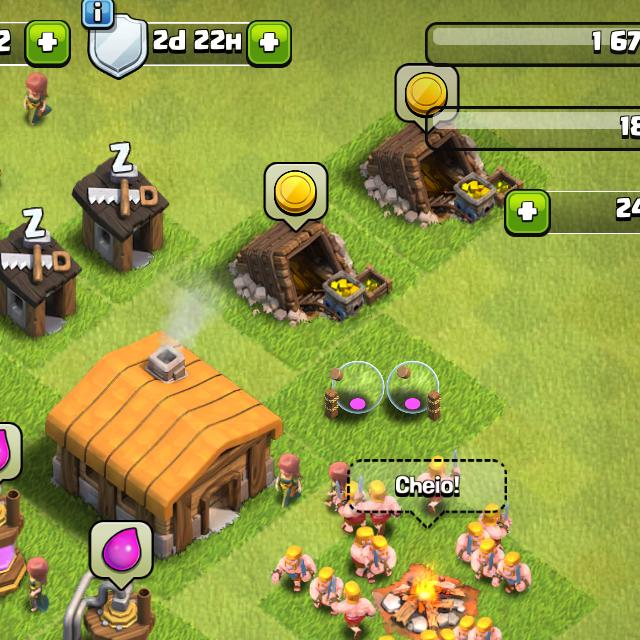Elixir: (91, 522, 153, 588), (0, 423, 20, 483)
coin: (263, 162, 329, 227), (396, 64, 456, 120)
